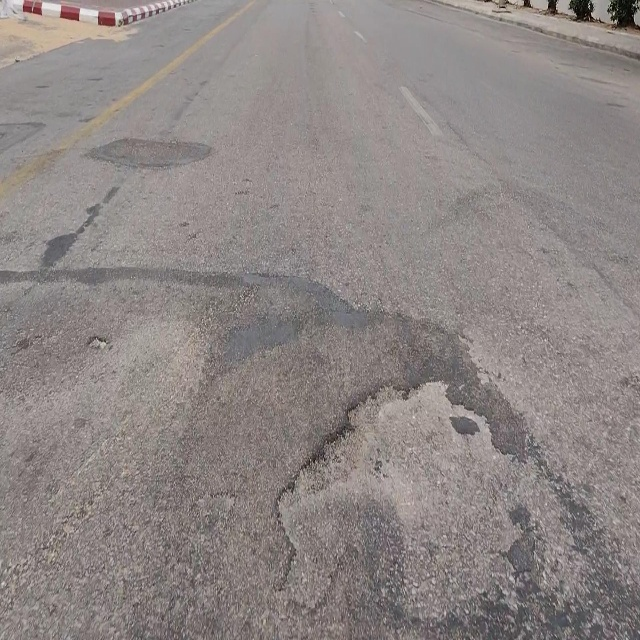pothole: (277, 379, 533, 623)
